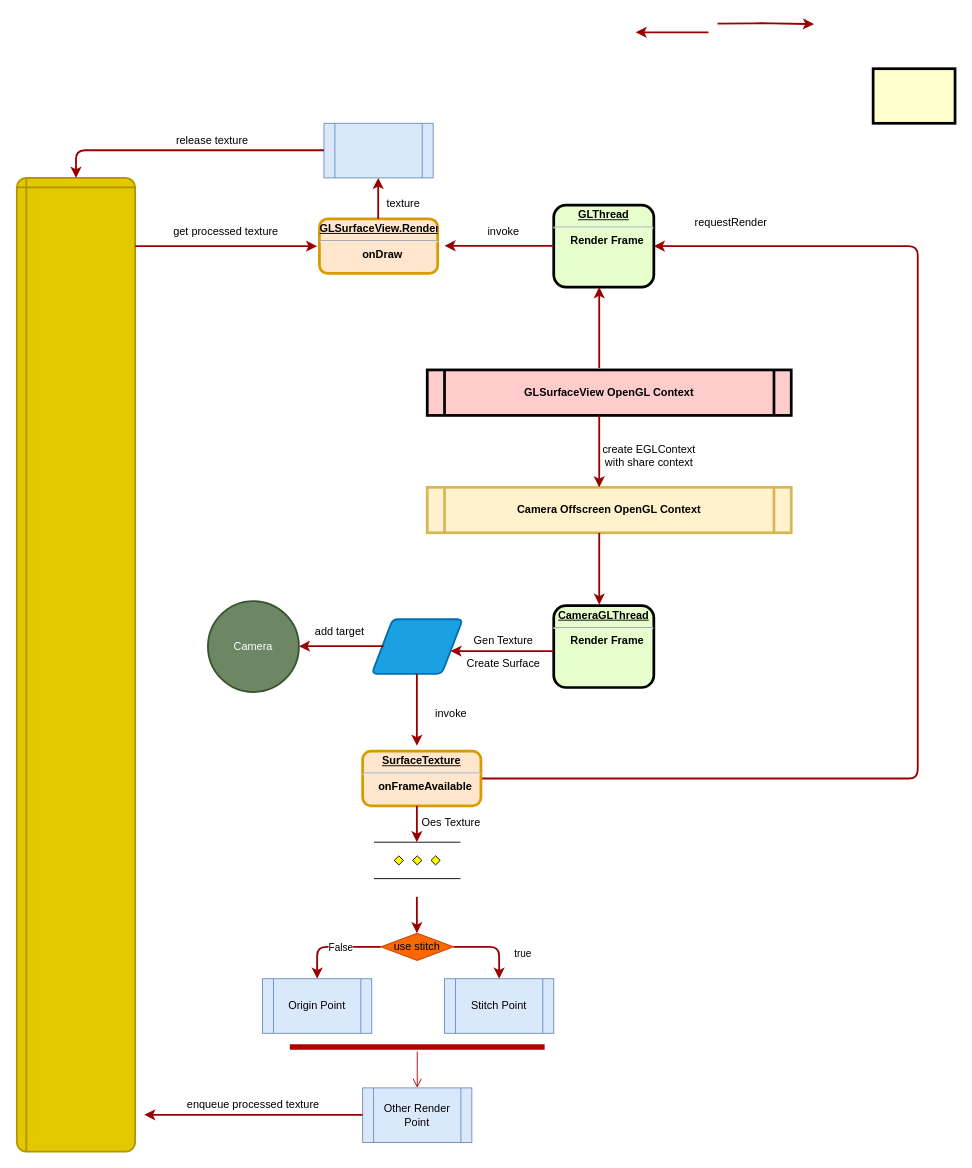
This 972x1168 diagram has some shape labels left out. The box of each missing label's shape, as (x1, y1, x2, y2) in pixels:
FrameBufferQueue: (15, 177, 136, 1152)
Management: (871, 67, 956, 124)
Render Chain: (373, 841, 460, 879)
Screen Renderer: (323, 122, 433, 178)
Surface: (370, 618, 463, 674)
